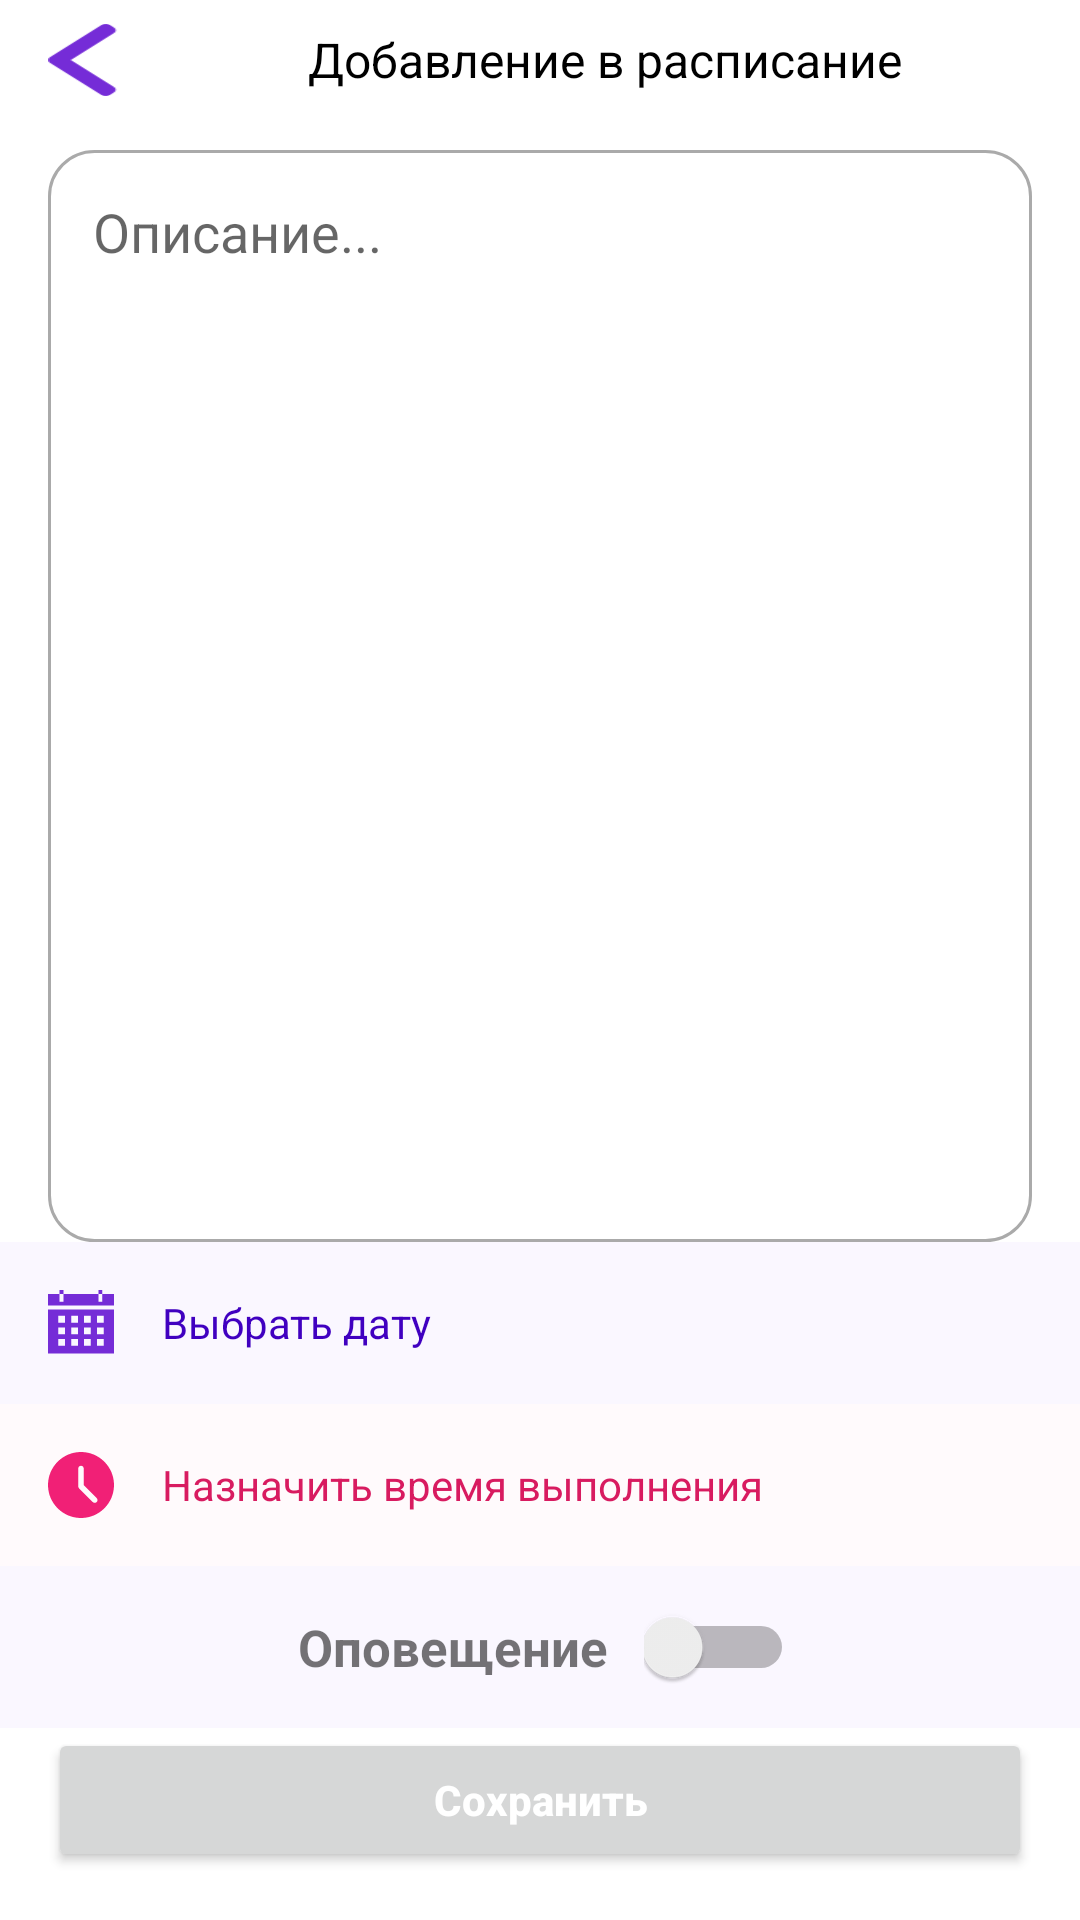

Named icons in this screenshot (1080*1920) and their centers, [x,y]:
on schedule: [81,1322]
timer: [81,1485]
